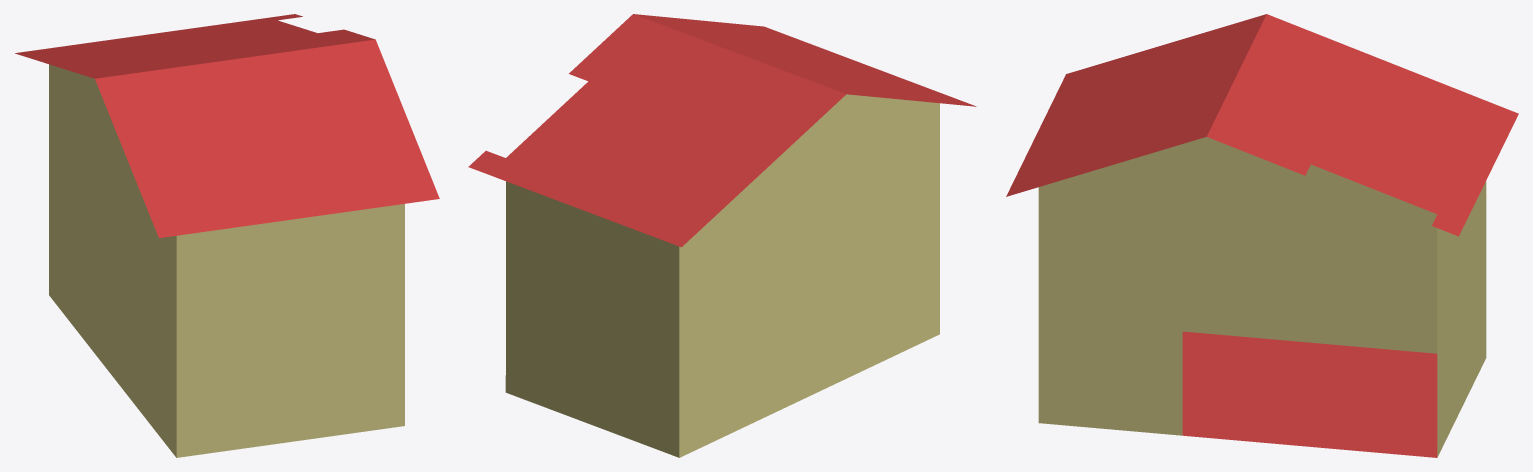
3 views of the same model, side by side, from view 1: azimuth 30°, elevation 25°; view 2: azimuth 150°, elevation 25°; view 3: azimuth 270°, elevation 25° (orthographic). The views are drawn at different scales.
Bounding box in the file's own units: 10.42 × 13.9 × 9.36.
